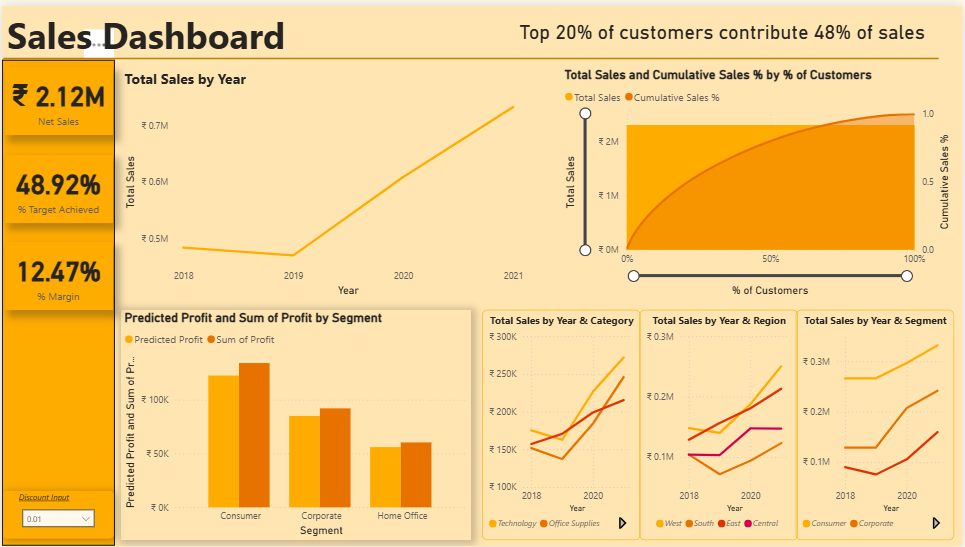

The dashboard page shown, as its layout file describes it:
{"tool":"powerbi","page":{"name":"Sales Dashboard","canvas":[1280,720],"ordinal":0},"visuals":[{"type":"lineChart","title":"Total Sales by Year","fields":{"Category":["Orders.Year Hierarchy.Year","Orders.Year Hierarchy.Quarter","Orders.Year Hierarchy.Month Name","Orders.Year Hierarchy.Order Date"],"Y":["Sum(Orders.Sales Amount)"]},"box":[158.6,82.9,541.4,308.6],"z":0},{"type":"card","fields":{"Values":["MeasureTable.Pareto Insight"]},"box":[640,0,640,65.7],"z":1000},{"type":"lineChart","title":"Total Sales by Year & Segment","fields":{"Category":["Orders.Year Hierarchy.Year","Orders.Year Hierarchy.Quarter","Orders.Year Hierarchy.Month Name","Orders.Year Hierarchy.Order Date"],"Y":["Sum(Orders.Sales Amount)"],"Series":["Orders.Segment"]},"box":[1059.1,404.3,211.1,307.1],"z":2000,"group":"g1"},{"type":"lineClusteredColumnComboChart","fields":{"Y":["MeasureTable.Total Net Sales"],"Y2":["MeasureTable.Cumulative Sales %"],"Category":["Customer Looker.% of Customers"]},"box":[745.7,81.4,524.3,310],"z":2000},{"type":"shape","box":[0.3,71.4,150,648.6],"z":3000},{"type":"lineChart","title":"Total Sales by Year & Category","fields":{"Category":["Orders.Year Hierarchy.Year","Orders.Year Hierarchy.Quarter","Orders.Year Hierarchy.Month Name","Orders.Year Hierarchy.Order Date"],"Y":["Sum(Orders.Sales Amount)"],"Series":["Product Looker.Category"]},"box":[640,404.3,211.1,307.1],"z":4000,"group":"g1"},{"type":"card","fields":{"Values":["MeasureTable.% Target Achieved"]},"box":[3.1,198.6,144.3,90],"z":4000},{"type":"card","fields":{"Values":["MeasureTable.% Margin"]},"box":[3.1,315.7,144.3,90],"z":5000},{"type":"lineChart","title":"Total Sales by Year & Region","fields":{"Category":["Orders.Year Hierarchy.Year","Orders.Year Hierarchy.Quarter","Orders.Year Hierarchy.Month Name","Orders.Year Hierarchy.Order Date"],"Y":["Sum(Orders.Sales Amount)"],"Series":["Region Heads Looker.Region"]},"box":[849.6,404.3,211.1,307.1],"z":6000,"group":"g1"},{"type":"card","fields":{"Values":["MeasureTable.Net Sales"]},"box":[3.1,81.4,144.3,90],"z":6000},{"type":"clusteredColumnChart","fields":{"Category":["Orders.Segment"],"Y":["MeasureTable.Predicted Profit","Sum(Orders.Profit)"]},"box":[158.6,404.3,467.1,307.1],"z":7000},{"type":"textbox","box":[1.4,0,561.4,75.7],"z":8000},{"type":"shape","box":[1.4,65.7,1247.1,10],"z":9000},{"type":"group","id":"g1","title":"Group 1","box":[640,404.3,630,307.1],"z":10000},{"type":"slicer","title":"Discount Input","fields":{"Values":["DiscountInput 2.DiscountInput"]},"box":[1.4,647.1,147.1,62.9],"z":11000}]}

Visuals, with their boxes in screenshot pixels (x1, y1, x2, y2), scaled from the page's 1280x720 canvas onto the 965x547 screenshot:
"Total Sales by Year" lineChart: {"x1": 120, "y1": 63, "x2": 528, "y2": 297}
card - MeasureTable.Pareto Insight: {"x1": 482, "y1": 0, "x2": 964, "y2": 50}
"Total Sales by Year & Segment" lineChart: {"x1": 798, "y1": 307, "x2": 958, "y2": 540}
lineClusteredColumnComboChart - MeasureTable.Total Net Sales x MeasureTable.Cumulative Sales %: {"x1": 562, "y1": 62, "x2": 957, "y2": 297}
shape: {"x1": 0, "y1": 54, "x2": 113, "y2": 546}
"Total Sales by Year & Category" lineChart: {"x1": 482, "y1": 307, "x2": 642, "y2": 540}
card - MeasureTable.% Target Achieved: {"x1": 2, "y1": 151, "x2": 111, "y2": 219}
card - MeasureTable.% Margin: {"x1": 2, "y1": 240, "x2": 111, "y2": 308}
"Total Sales by Year & Region" lineChart: {"x1": 641, "y1": 307, "x2": 800, "y2": 540}
card - MeasureTable.Net Sales: {"x1": 2, "y1": 62, "x2": 111, "y2": 130}
clusteredColumnChart - Orders.Segment x MeasureTable.Predicted Profit: {"x1": 120, "y1": 307, "x2": 472, "y2": 540}
textbox: {"x1": 1, "y1": 0, "x2": 424, "y2": 58}
shape: {"x1": 1, "y1": 50, "x2": 941, "y2": 58}
"Group 1" group: {"x1": 482, "y1": 307, "x2": 957, "y2": 540}
"Discount Input" slicer: {"x1": 1, "y1": 492, "x2": 112, "y2": 539}
